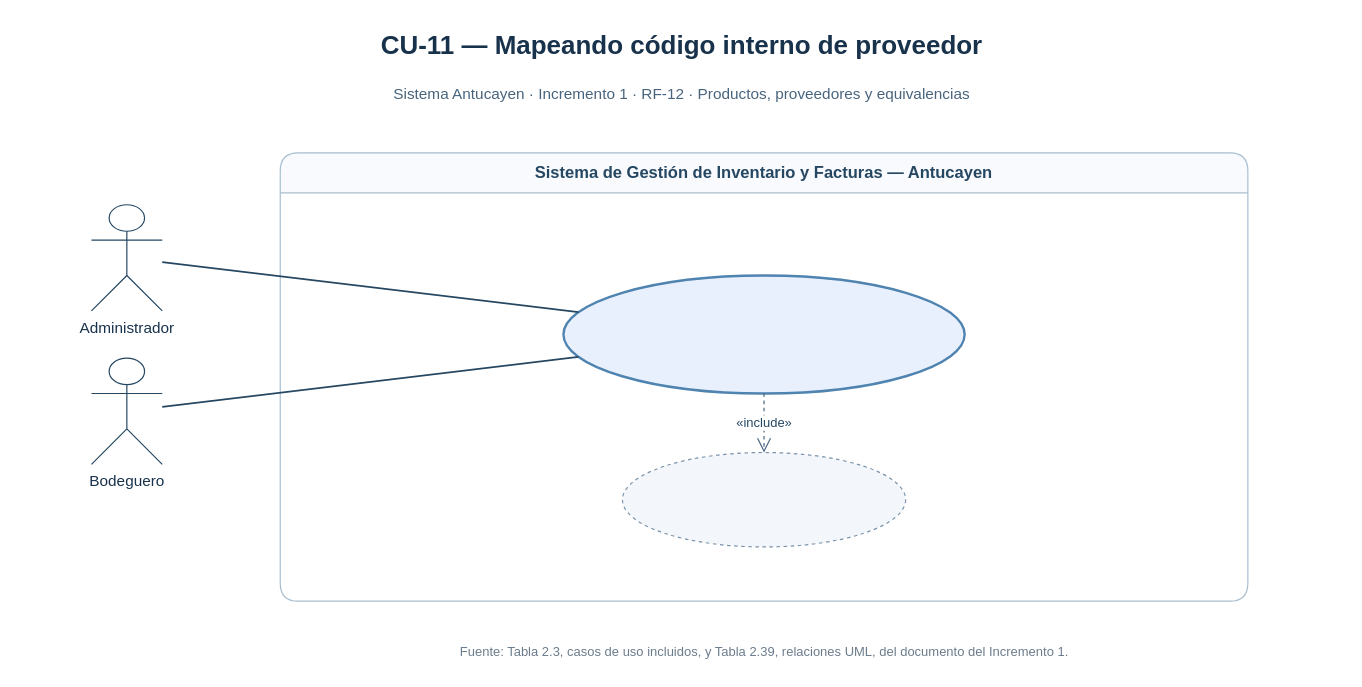
Image size: 1362x687. Some labels were removed from this diagram. Here are the shapes that lost their labels. From the top down, the centre of each, then its label:
pixel 763 334: CU-11 Mapeando código interno de proveedor
pixel 763 499: CU-14 Validando equivalencia única por proveedor
